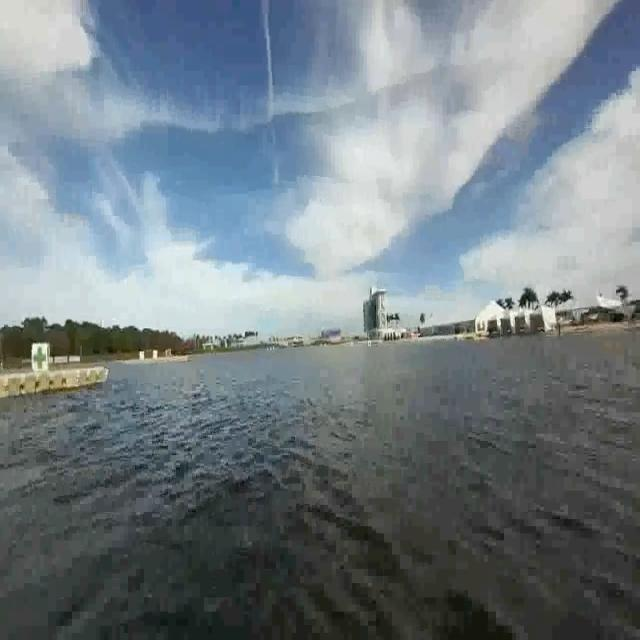blue-cross: (32, 342, 46, 373)
